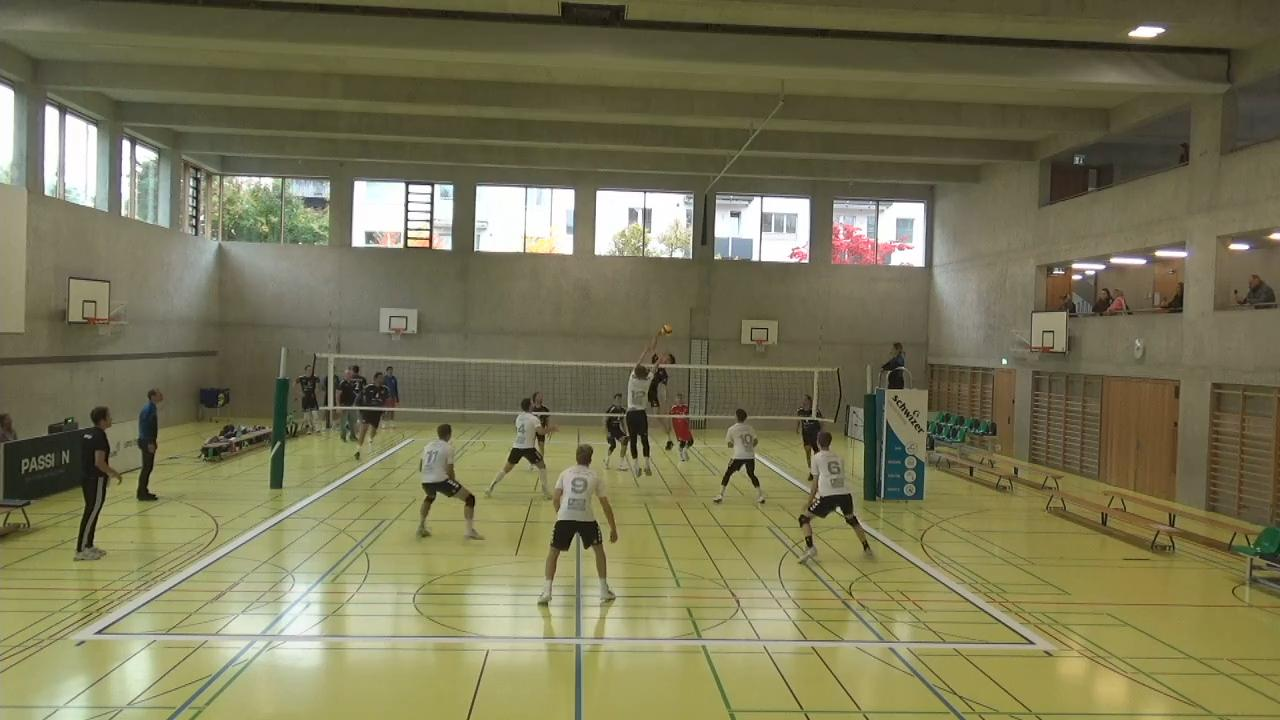Attack: (642, 337, 674, 446)
Block: (617, 340, 662, 483)
Player: (538, 439, 619, 606), (798, 434, 874, 562), (416, 423, 481, 541), (483, 395, 550, 496), (712, 408, 765, 505), (352, 372, 392, 465), (794, 392, 824, 475), (666, 393, 698, 464), (603, 397, 630, 470), (531, 391, 555, 458)
ball: (657, 323, 673, 337)
